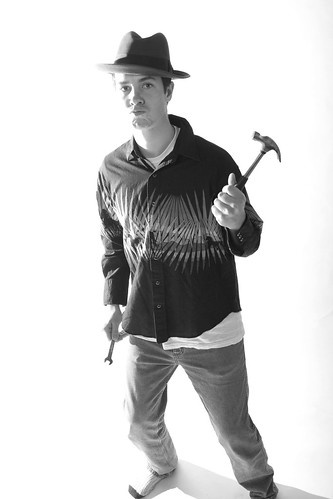hammer: (224, 132, 284, 221)
